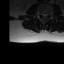CCS_normal: (43, 11, 45, 19)
LFS_normal: (48, 9, 50, 17)
LLS_normal: (46, 10, 48, 19)
RFS_normal: (39, 9, 42, 16)
RLS_normal: (42, 11, 43, 18)
